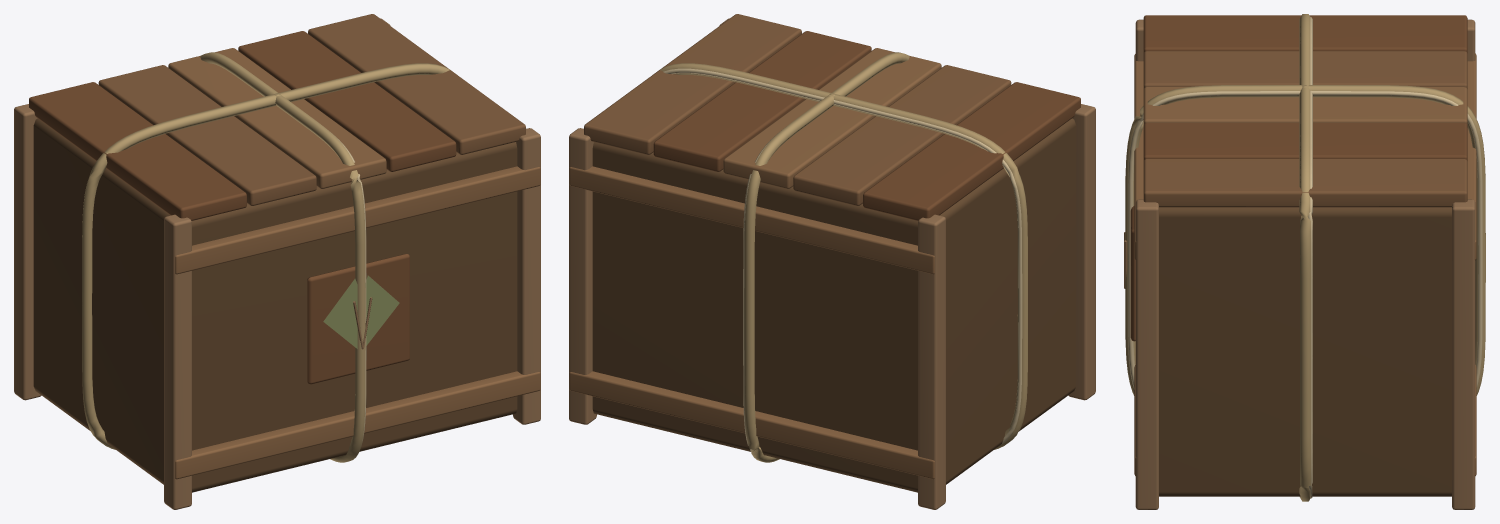
File: tea.glb
The picture shows the model from 3 angles, left to right: view 1: azimuth 30°, elevation 25°; view 2: azimuth 150°, elevation 25°; view 3: azimuth 270°, elevation 25°; orthographic projection. The views are drawn at different scales.
Parts seen in each view (by area): view 1: Cargo_tea; view 2: Cargo_tea; view 3: Cargo_tea.
Boxes of the visible parts, x1,y1,x2,y2 form: Cargo_tea: (14,14,540,509); Cargo_tea: (569,14,1095,509); Cargo_tea: (1124,14,1485,509).
Size of the model in its own units: 0.919 by 0.7308 by 0.6979.
